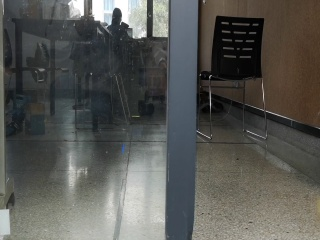room: (4, 5, 317, 240)
